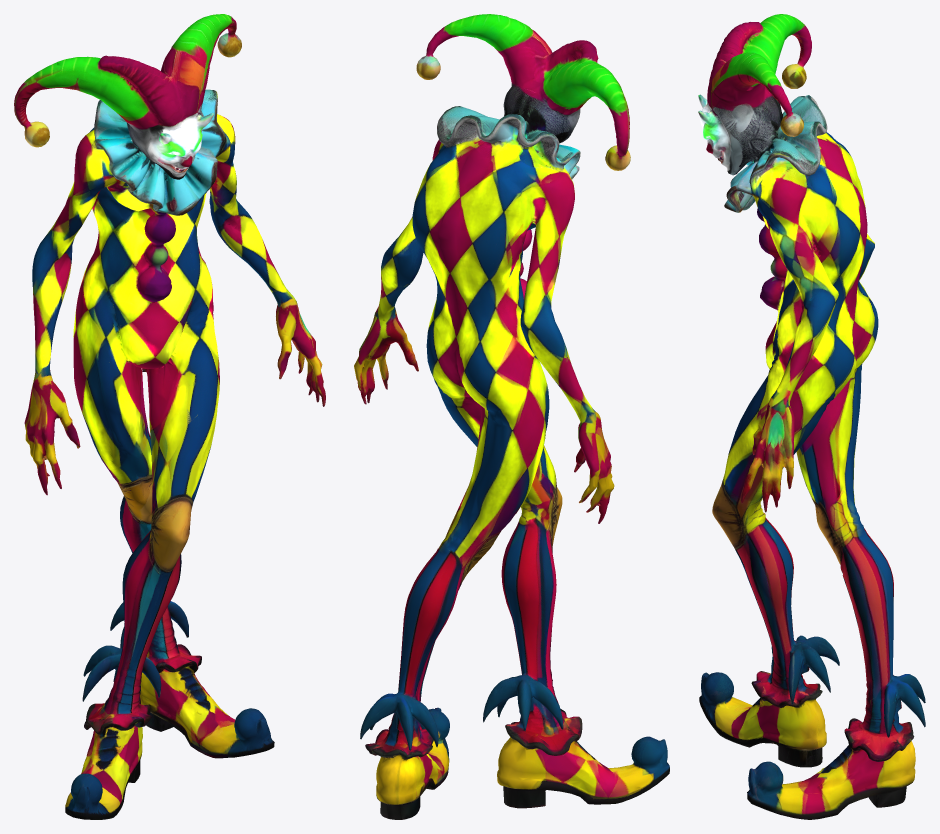
File: vorath_clown_mutant_3.glb
3 renders of one model, left to right at view 1: azimuth 30°, elevation 25°; view 2: azimuth 150°, elevation 25°; view 3: azimuth 270°, elevation 25°, orthographic. The views are drawn at different scales.
Bounding box in the file's own units: 0.7523 × 1.9 × 0.5349.
Materials: 1 (1 with a texture image).
